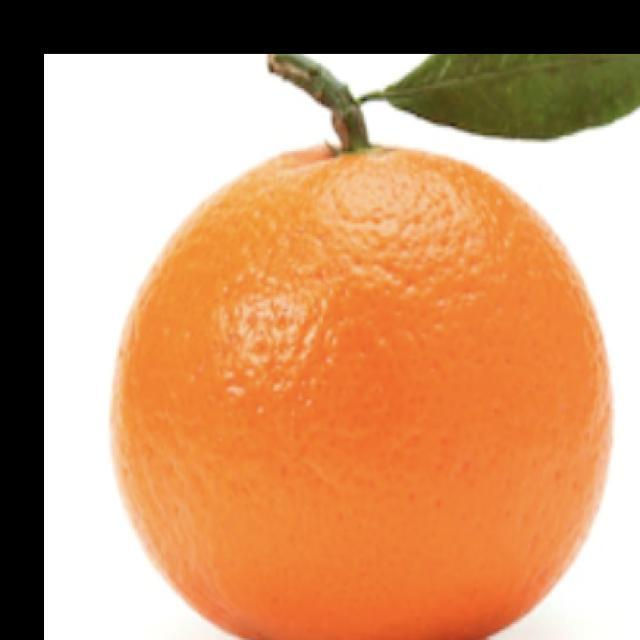Orange: (109, 139, 615, 639)
